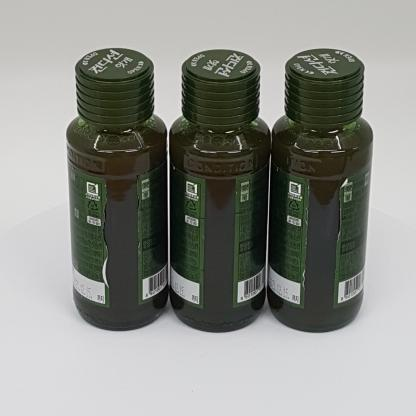CJ-----100ML: (266, 48, 373, 332), (66, 48, 169, 330), (169, 49, 271, 332)
